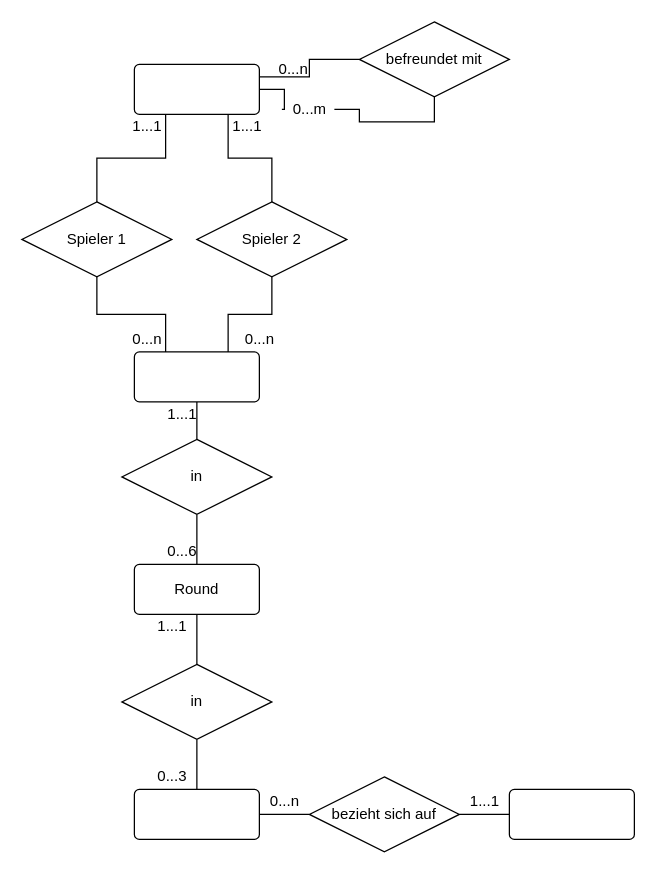
This 656x874 diagram has some shape labels left out. The centre of each missing label's shape, as x and y in pixels:
Game: the point at 196,376
Question: the point at 571,813
QuestionAnswer: the point at 196,813
User: the point at 196,88
